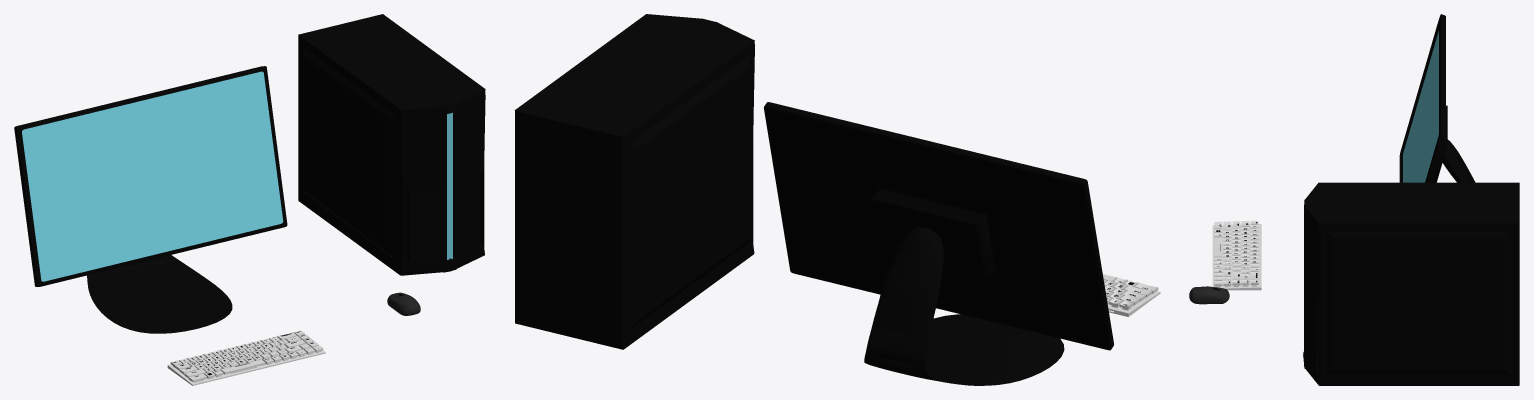
The model's file is Ordenador.glb.
3 views of the same model, side by side, from view 1: azimuth 30°, elevation 25°; view 2: azimuth 150°, elevation 25°; view 3: azimuth 270°, elevation 25° (orthographic). The views are drawn at different scales.
Parts seen in each view (by area): view 1: Monitor Ordenador, Caja ordenador, Soporte ordenador, Teclado, Raton; view 2: Caja ordenador, Monitor Ordenador, Soporte ordenador, Teclado; view 3: Caja ordenador, Monitor Ordenador, Teclado, Soporte ordenador, Raton.
Boxes of the visible parts, box(x1,y1,x2,y2) form: Monitor Ordenador: box(14, 66, 287, 286); Caja ordenador: box(298, 14, 485, 275); Soporte ordenador: box(87, 255, 232, 333); Teclado: box(167, 330, 325, 385); Raton: box(387, 292, 420, 315); Caja ordenador: box(514, 14, 754, 349); Monitor Ordenador: box(764, 102, 1113, 350); Soporte ordenador: box(864, 227, 1064, 385); Teclado: box(1103, 274, 1160, 316); Caja ordenador: box(1303, 182, 1519, 385); Monitor Ordenador: box(1399, 14, 1447, 182); Teclado: box(1212, 220, 1261, 290); Soporte ordenador: box(1442, 139, 1475, 182); Raton: box(1189, 286, 1229, 304).
Bounding box in the file's own units: 5.7 × 2.53 × 4.07.
